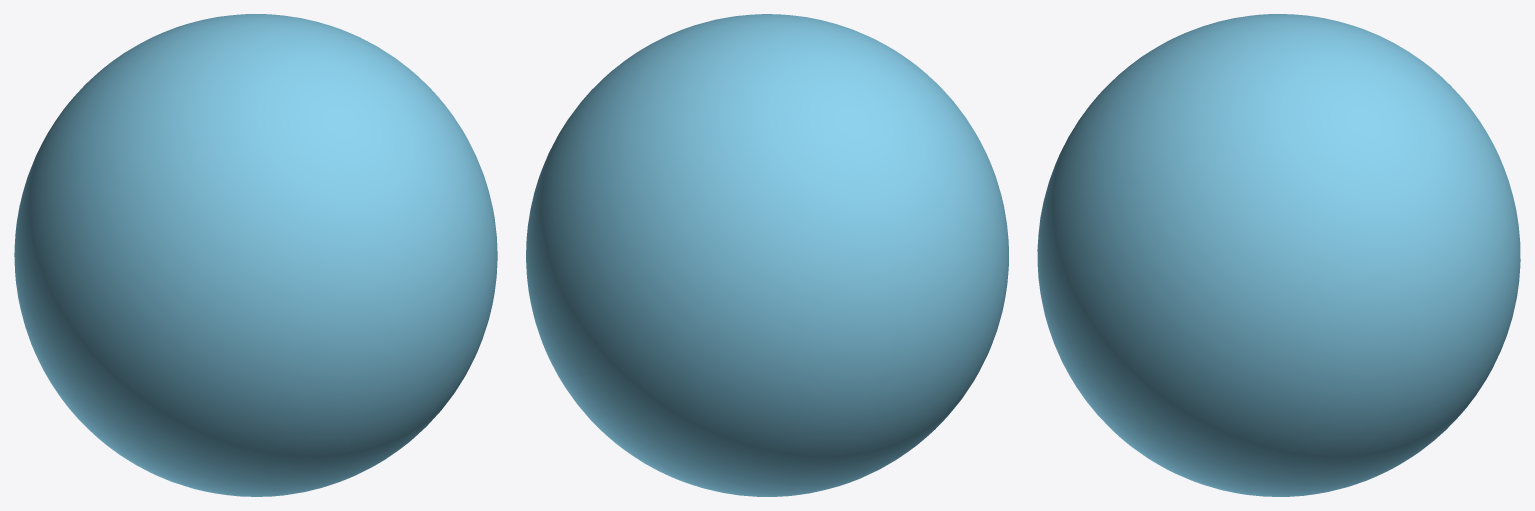
The model's file is core_of_lyoko.obj.
The picture shows the model from 3 angles, left to right: view 1: azimuth 30°, elevation 25°; view 2: azimuth 150°, elevation 25°; view 3: azimuth 270°, elevation 25°; orthographic projection.
Parts seen in each view (by area): view 1: lyoko_core.003; view 2: lyoko_core.003; view 3: lyoko_core.003.
Part boxes in pixels (x1=…): lyoko_core.003: x1=14, y1=14, x2=497, y2=496; lyoko_core.003: x1=526, y1=14, x2=1008, y2=496; lyoko_core.003: x1=1037, y1=14, x2=1520, y2=496.
Bounding box in the file's own units: 7.15 × 7.15 × 7.15.
